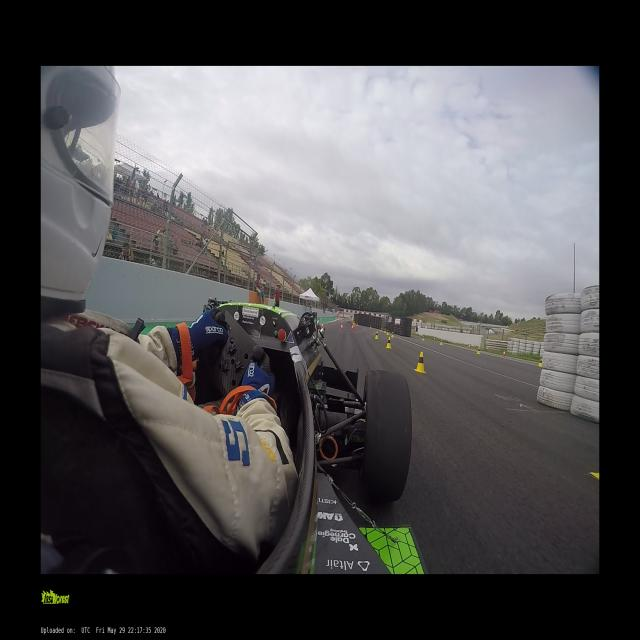orange_cone: (339, 324, 343, 331), (502, 350, 506, 357), (467, 344, 471, 350), (351, 325, 354, 330)
yellow_cone: (414, 352, 426, 374), (385, 337, 392, 349), (374, 331, 378, 339), (538, 359, 542, 367), (439, 339, 443, 345), (477, 347, 480, 354), (391, 332, 394, 338), (386, 329, 389, 335), (384, 328, 386, 333), (380, 327, 382, 332), (422, 336, 424, 340), (370, 325, 372, 329)
